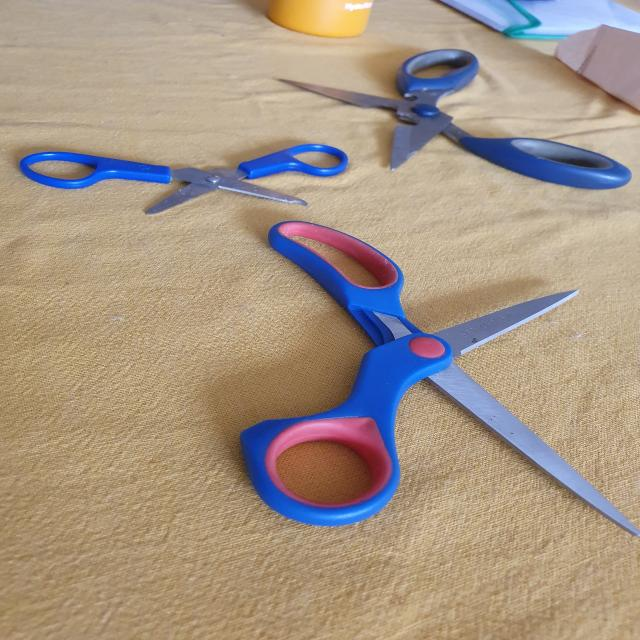scissors: (231, 219, 640, 542), (275, 47, 631, 189), (19, 143, 356, 218)
